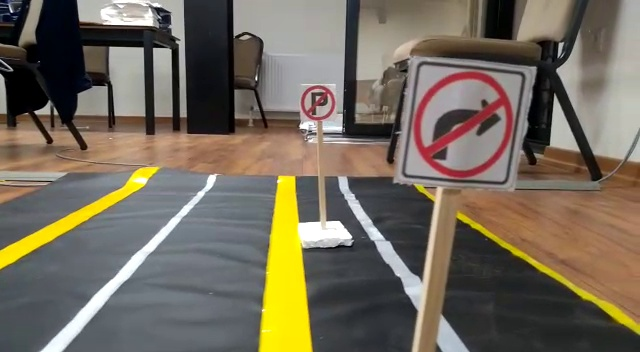park_yapilmaz: (299, 84, 338, 122)
saga_donulmez: (414, 61, 516, 183)
